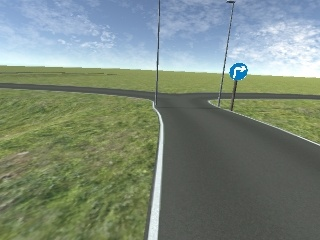TRight: (227, 62, 249, 82)
